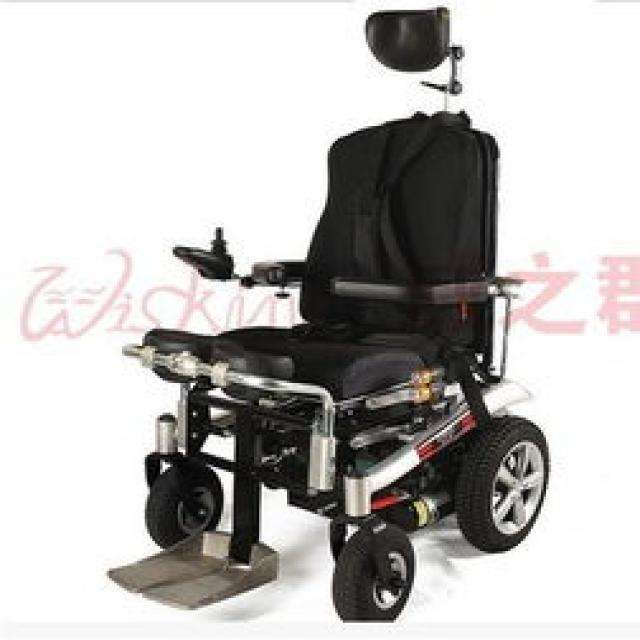wheelchairs: (138, 7, 549, 620)
